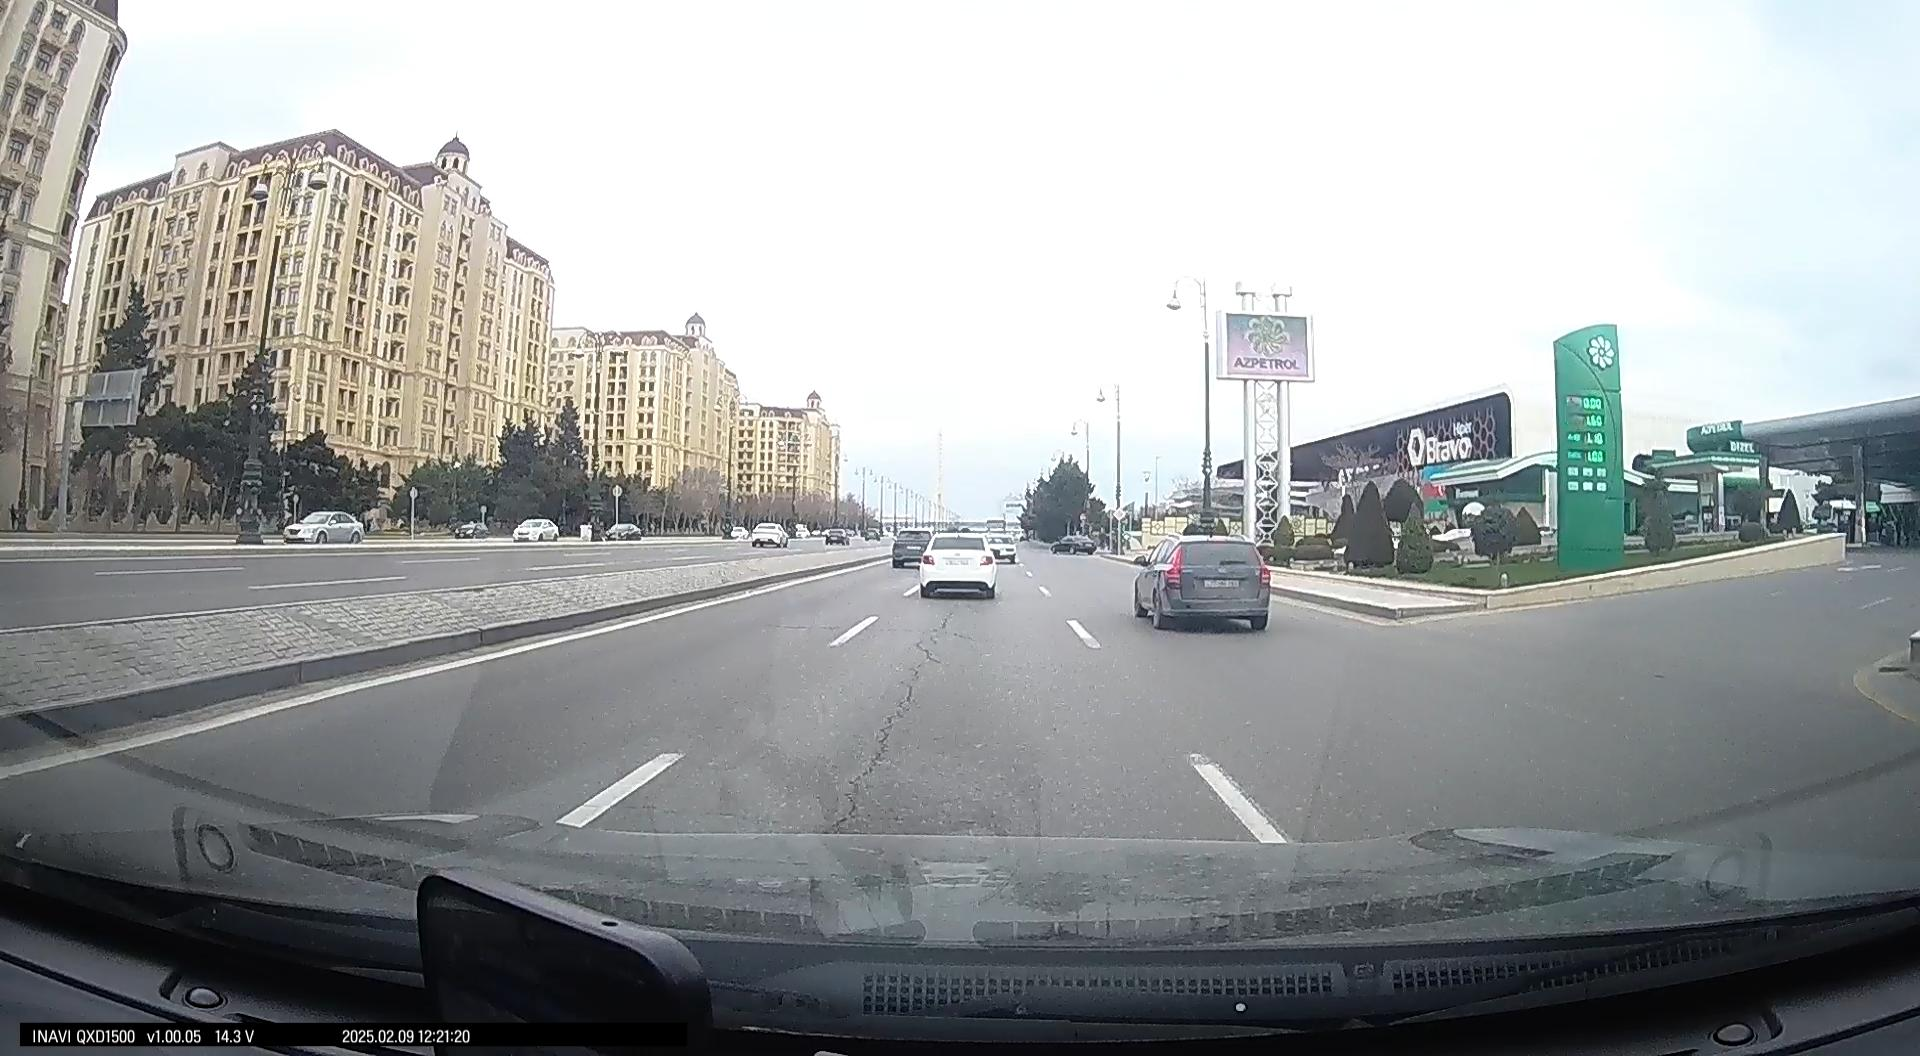banner: (1216, 309, 1314, 382)
